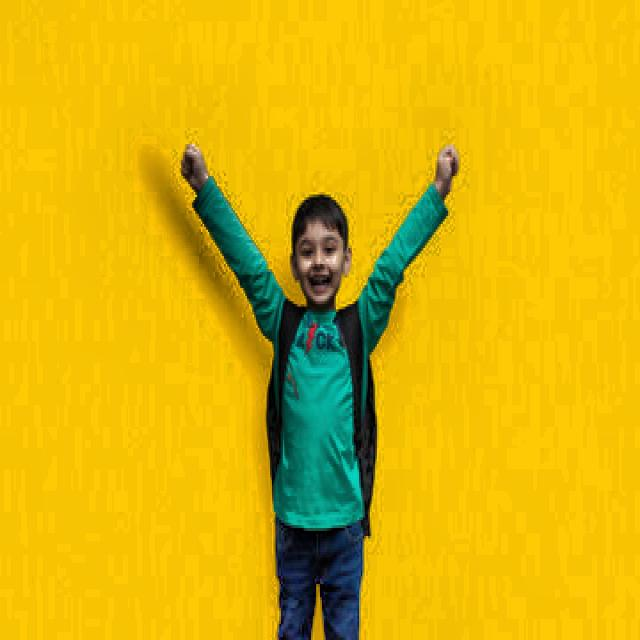Human: (168, 117, 468, 640)
